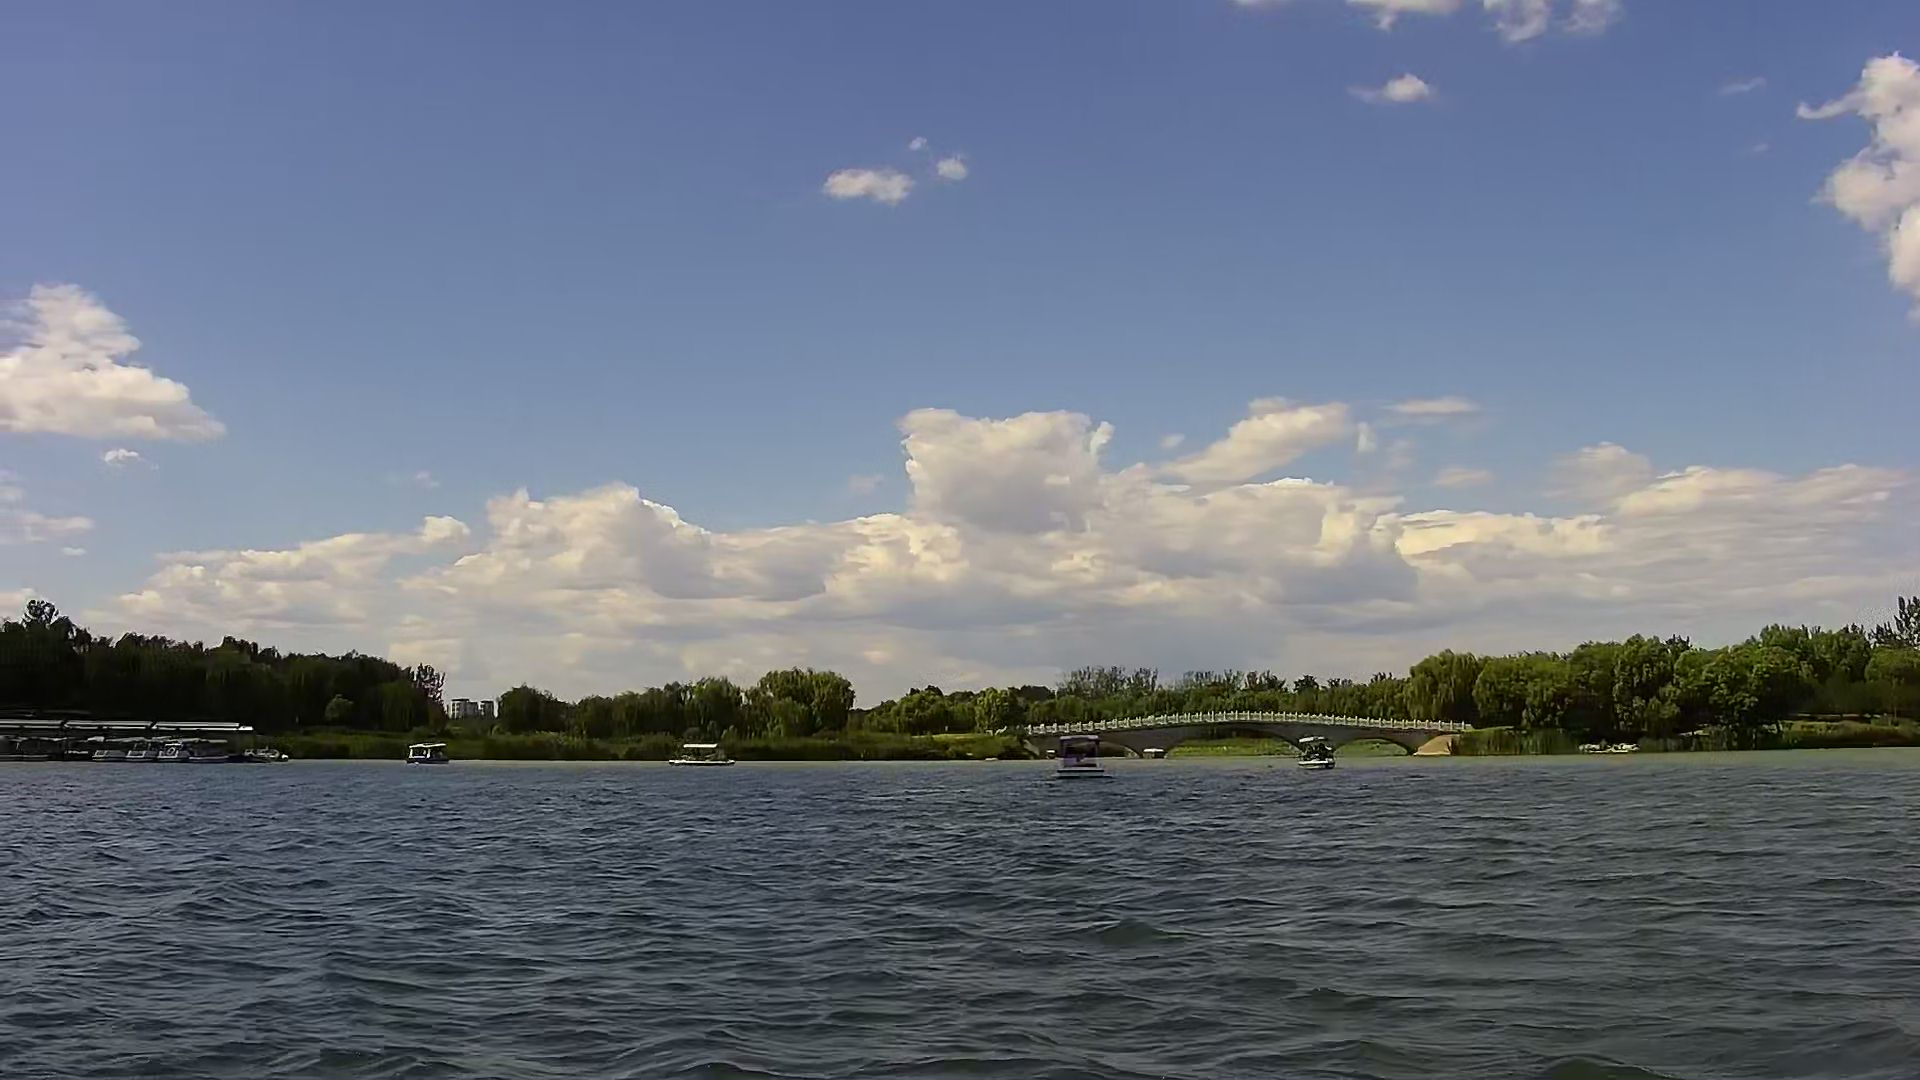boat: (1044, 724, 1113, 789), (1291, 724, 1353, 782), (659, 736, 749, 771), (400, 736, 455, 766)
bridge: (1005, 702, 1469, 754)
